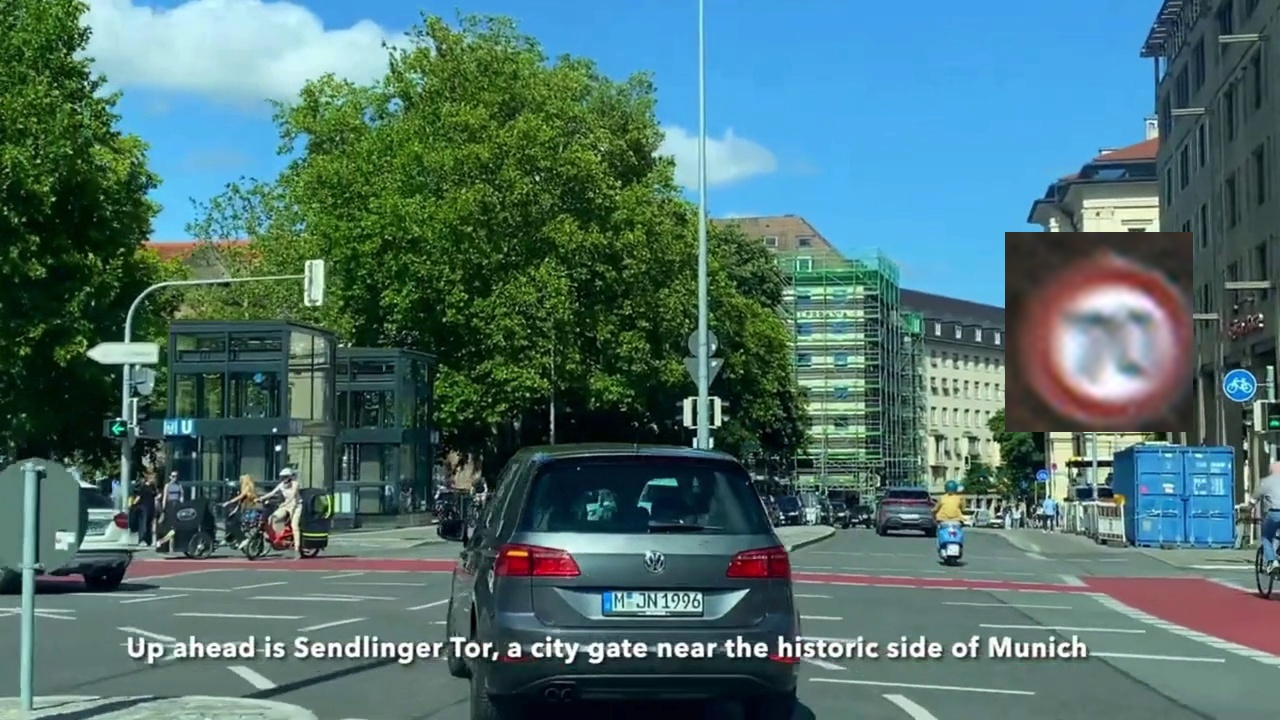Speed 70: (1005, 232, 1193, 432)
